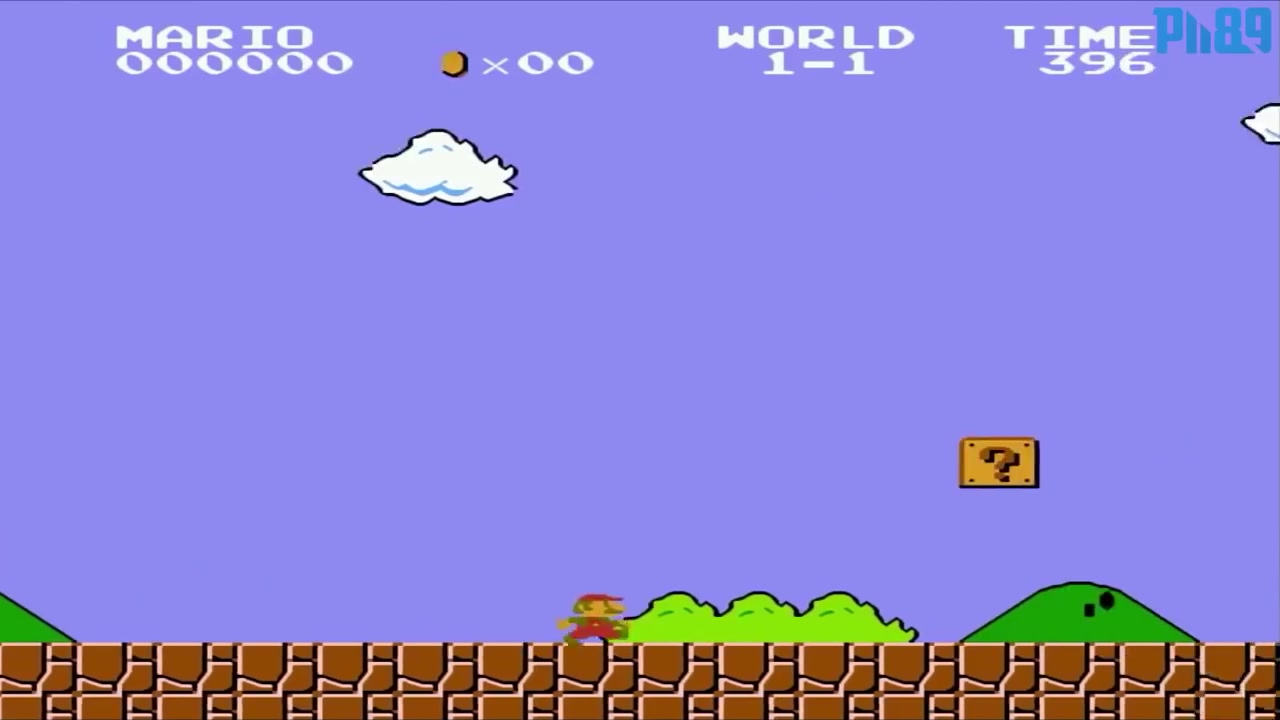mario: (548, 580, 643, 649)
